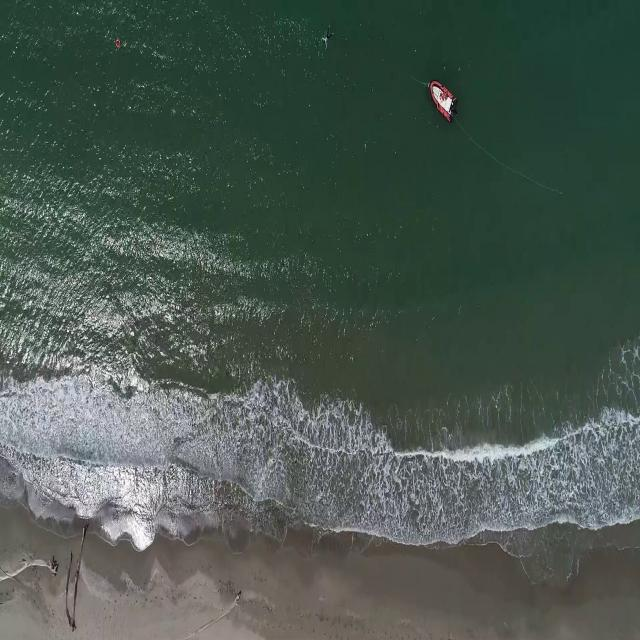boat: (429, 80, 456, 126)
life_buoy: (113, 40, 122, 51)
person: (321, 30, 334, 55)
wood: (176, 588, 243, 639), (67, 522, 88, 634), (0, 556, 63, 580)
